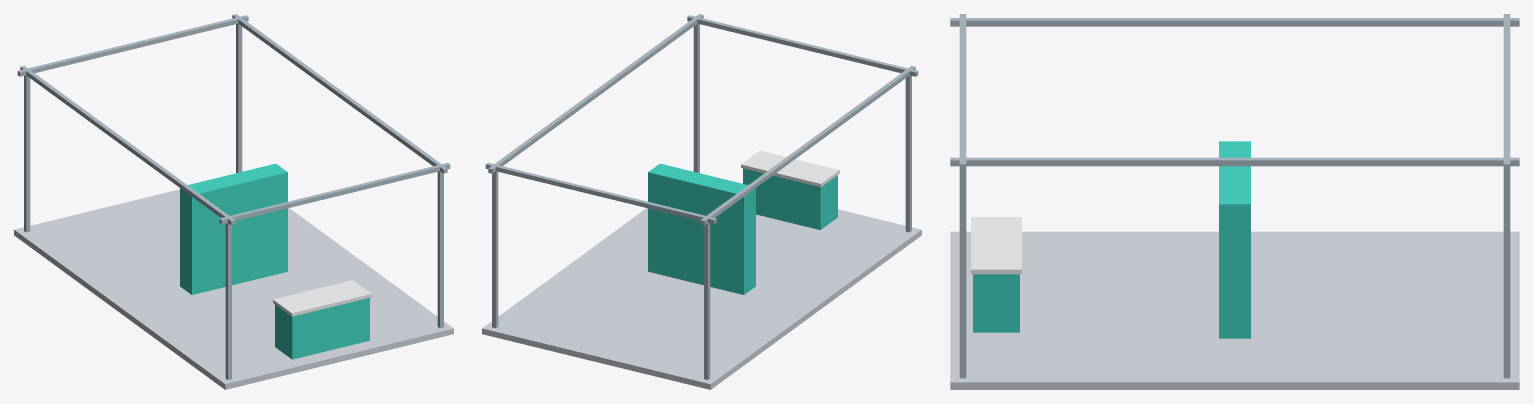
3 renders of one model, left to right at view 1: azimuth 30°, elevation 25°; view 2: azimuth 150°, elevation 25°; view 3: azimuth 270°, elevation 25°, orthographic. The views are drawn at different scales.
Parts seen in each view (by area): view 1: Exhibition Booth Concept; view 2: Exhibition Booth Concept; view 3: Exhibition Booth Concept.
Part boxes in pixels (x1,y1,x2,y2): Exhibition Booth Concept: (14,14,453,389); Exhibition Booth Concept: (482,14,921,389); Exhibition Booth Concept: (950,14,1519,389).
Size of the model in its own units: 5 by 3.49 by 8.
